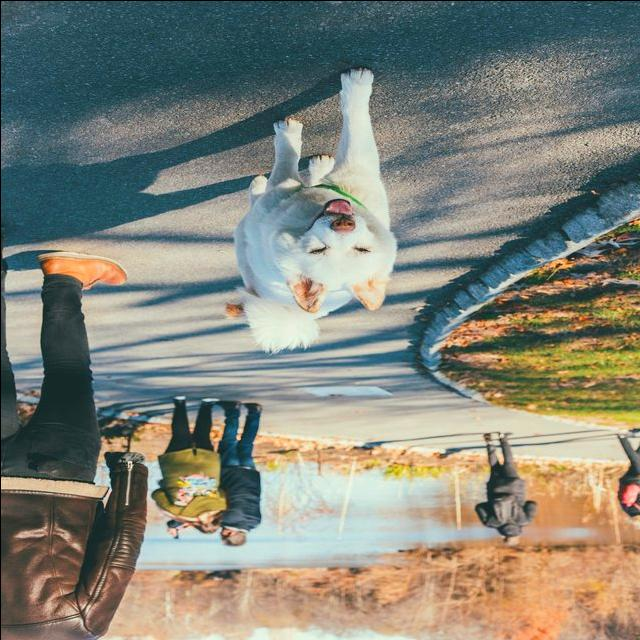husky: (222, 67, 396, 354)
